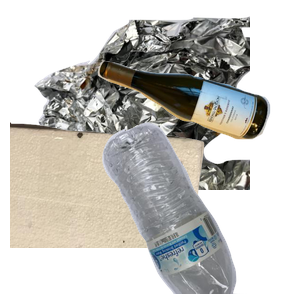glass: (95, 57, 300, 189)
metal: (19, 14, 259, 194)
plastic: (100, 120, 300, 300)
trash: (10, 120, 207, 300)
